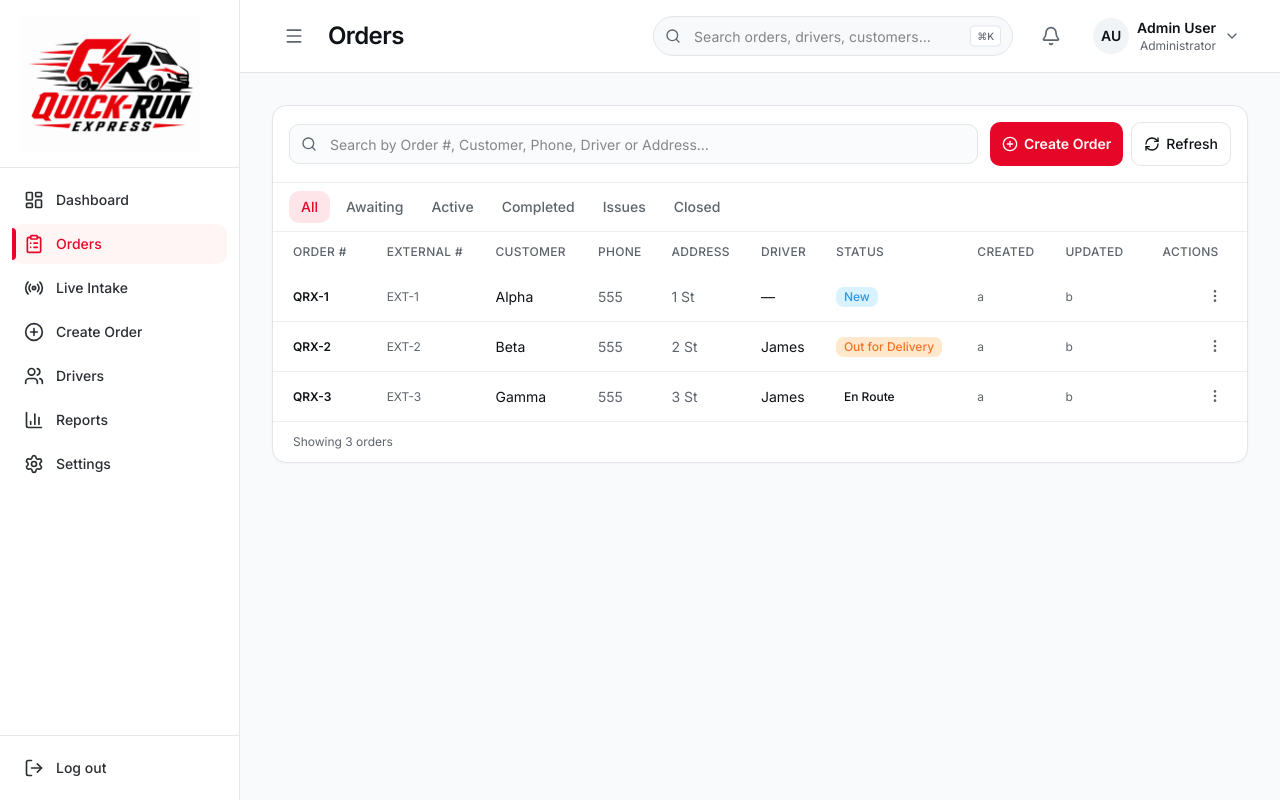
Scenario: OrdersPage › groups En Route under Active via authoritative helpers
Step 1. Click the tab "Active" → (452, 207), box x1=419 y1=191 x2=486 y2=223
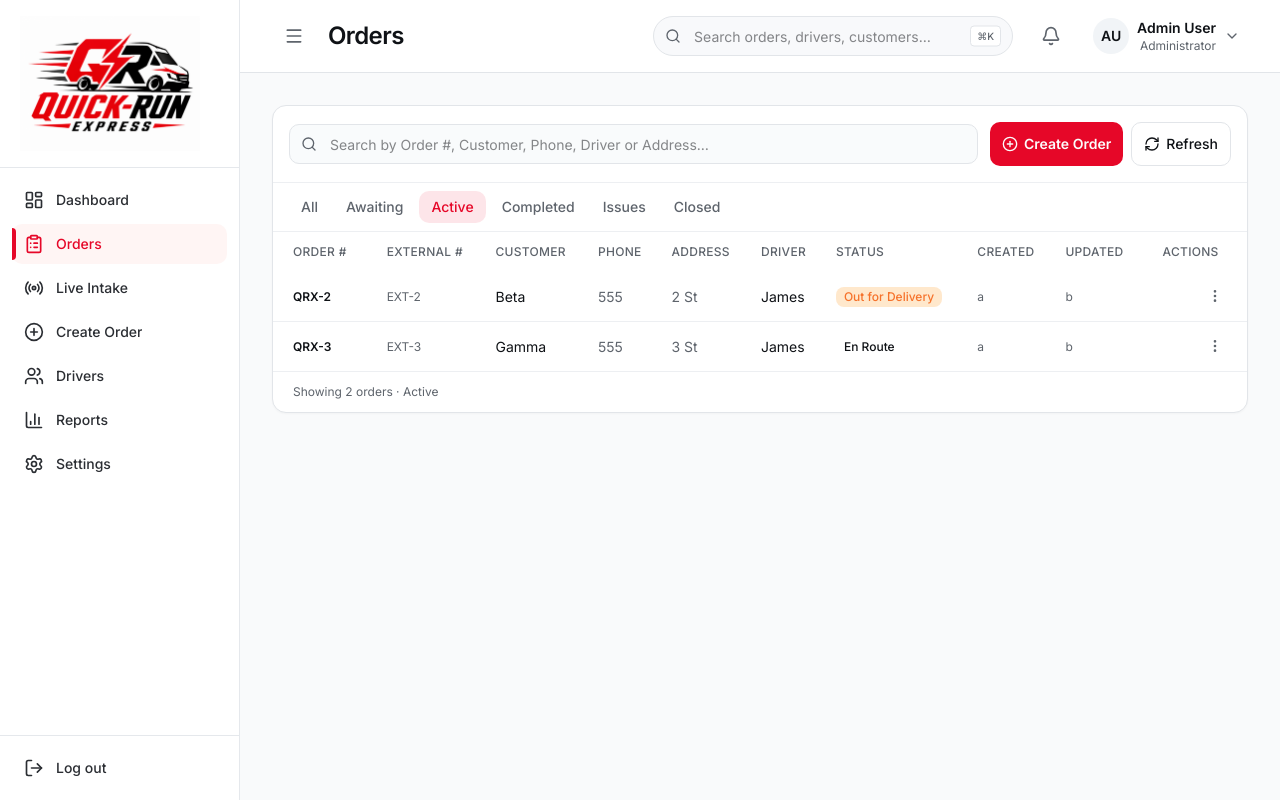
Expected: the text "QRX-1" is not shown
